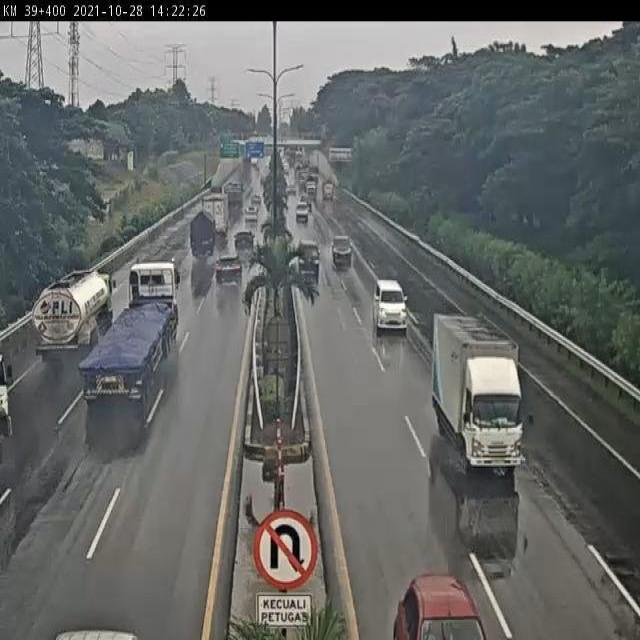car: (373, 280, 409, 332), (213, 252, 244, 292), (297, 235, 320, 273), (230, 229, 256, 259)
truck-l-: (195, 195, 227, 244)
truck-m-: (32, 270, 114, 362), (188, 211, 219, 260)
truck-s-: (431, 311, 524, 473)
truck-xl-: (79, 260, 178, 408)
